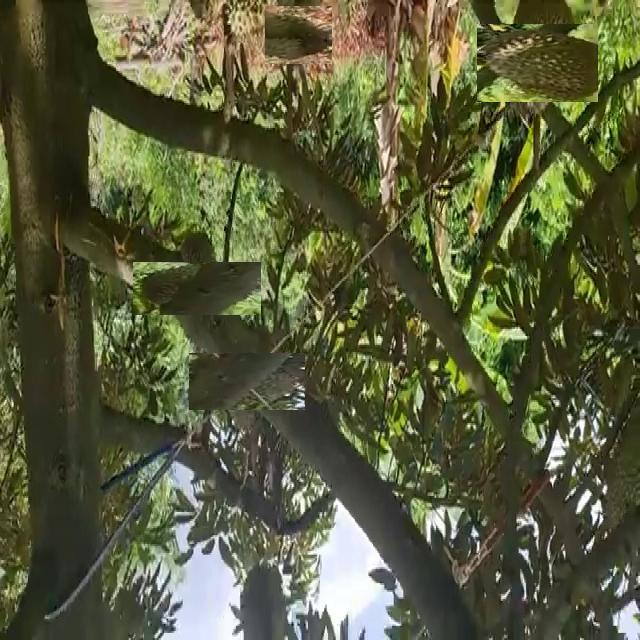durian: (488, 13, 588, 113), (151, 243, 243, 334), (203, 338, 291, 426), (601, 398, 638, 568), (235, 558, 292, 638), (267, 4, 330, 67)
